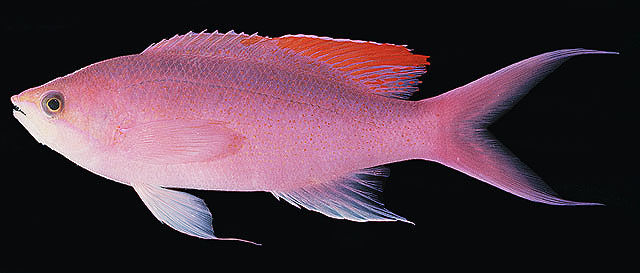fish: (10, 29, 620, 246)
